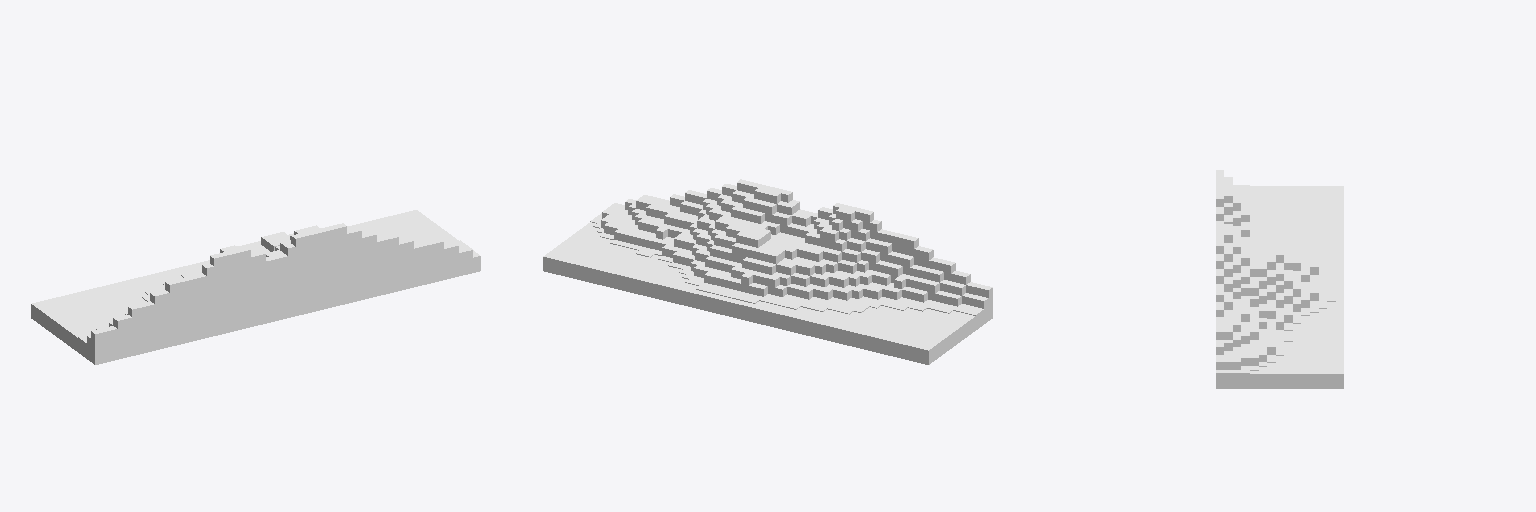
3 views of the same model, side by side, from view 1: azimuth 30°, elevation 25°; view 2: azimuth 150°, elevation 25°; view 3: azimuth 270°, elevation 25° (orthographic).
Visible parts, largest first — view 1: discord__182_61_92_to_233_255_106; view 2: discord__182_61_92_to_233_255_106; view 3: discord__182_61_92_to_233_255_106.
Part boxes in pixels (bbox=[...]): discord__182_61_92_to_233_255_106: bbox=[31, 210, 480, 364]; discord__182_61_92_to_233_255_106: bbox=[543, 179, 992, 364]; discord__182_61_92_to_233_255_106: bbox=[1216, 170, 1343, 388].
Size of the model in its own units: 52 by 10 by 15.